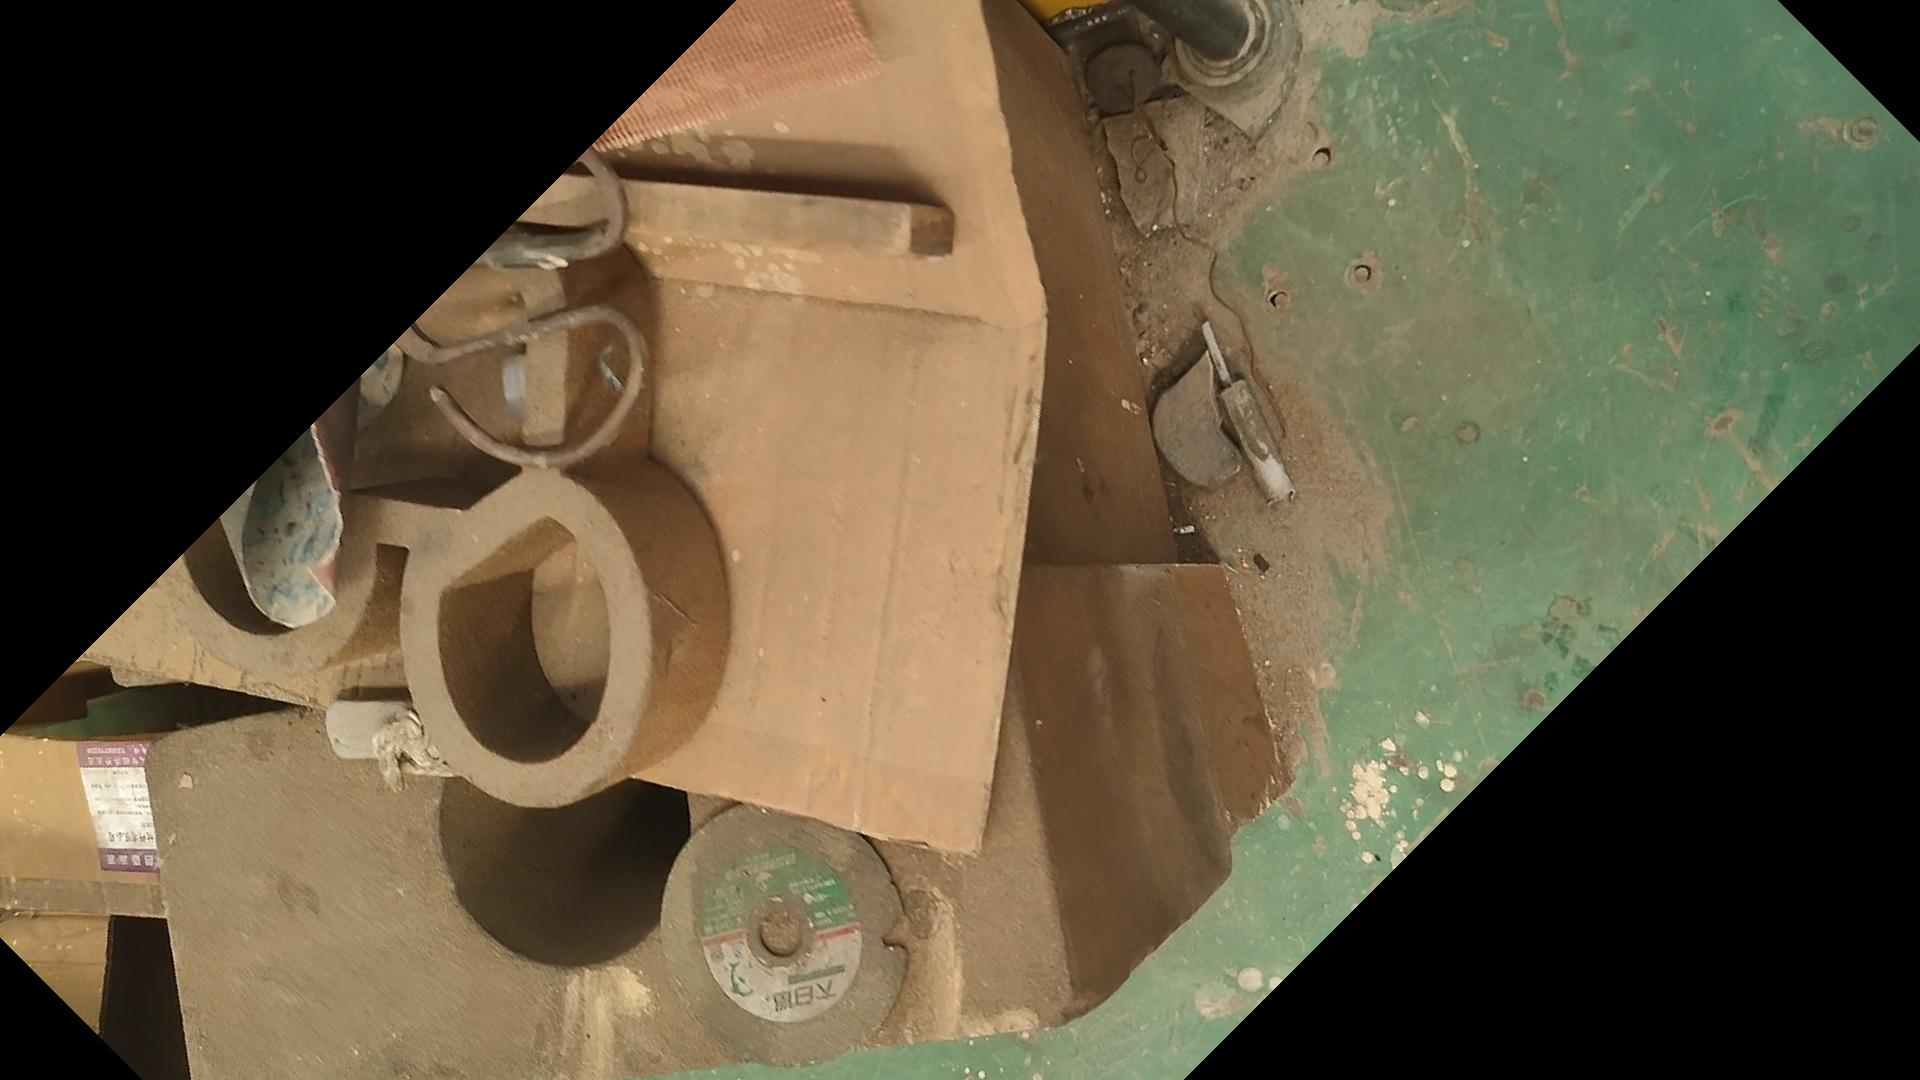pouring hole: (438, 738, 694, 968)
